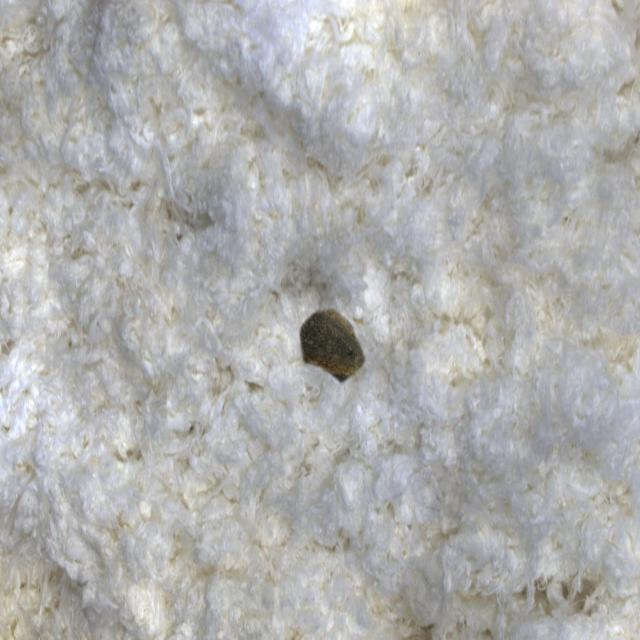dust: (282, 269, 401, 431)
